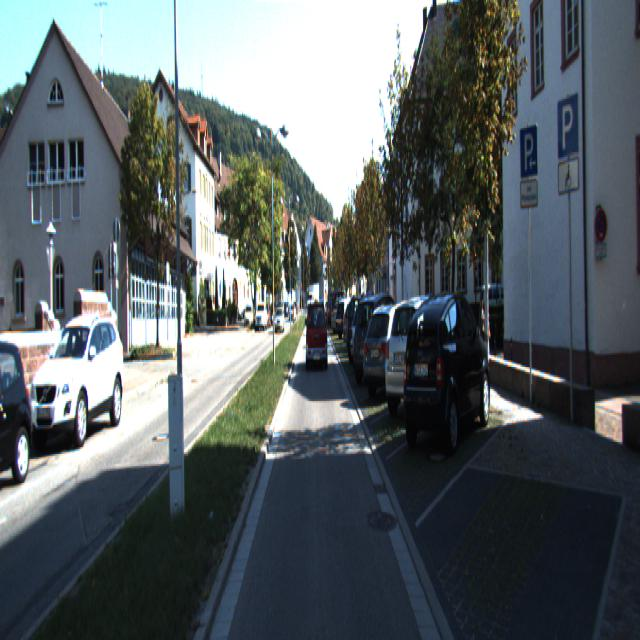Car: (400, 292, 492, 462), (27, 314, 126, 449), (383, 296, 466, 424), (358, 304, 426, 404), (0, 334, 40, 487), (351, 293, 409, 385), (350, 299, 402, 373), (344, 296, 391, 366), (306, 304, 328, 372), (331, 299, 358, 332), (328, 294, 350, 328), (255, 303, 268, 332), (274, 307, 285, 333)
